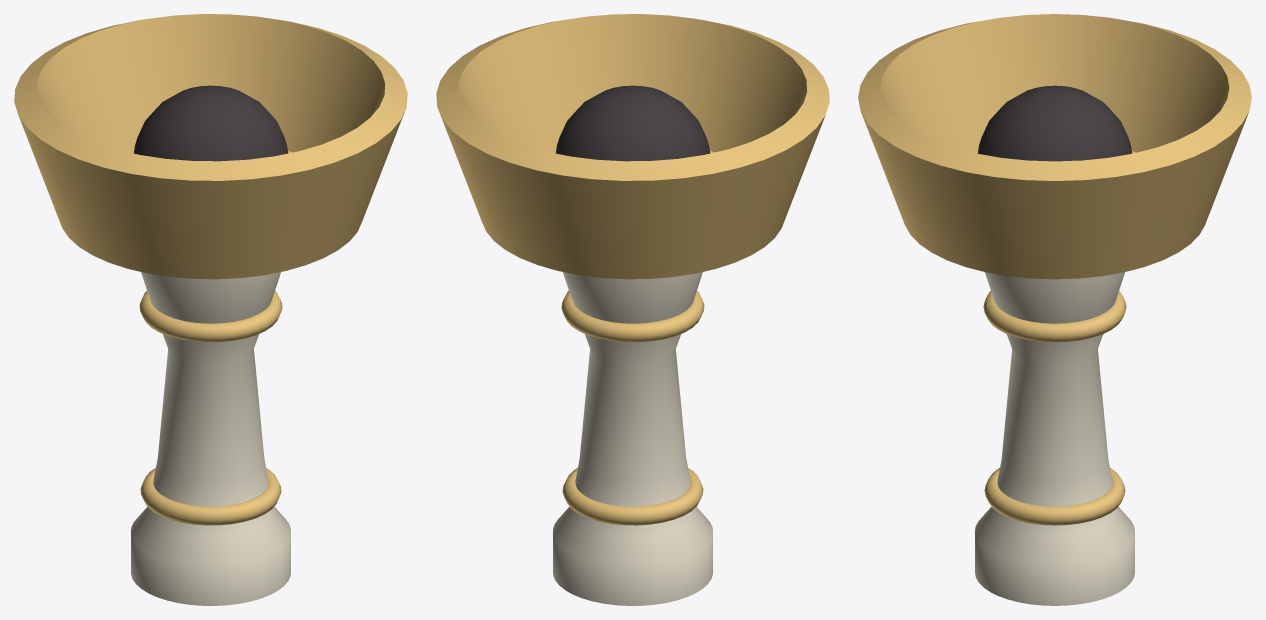
Rendered from royal-court-and-throne-palace-court-brazier-9975beb3__29420.glb.
3 views of the same model, side by side, from view 1: azimuth 30°, elevation 25°; view 2: azimuth 150°, elevation 25°; view 3: azimuth 270°, elevation 25° (orthographic).
Parts seen in each view (by area): view 1: court-brazier; view 2: court-brazier; view 3: court-brazier.
Part boxes in pixels (bbox=[...]): court-brazier: bbox=[14, 14, 407, 605]; court-brazier: bbox=[436, 14, 829, 605]; court-brazier: bbox=[858, 14, 1251, 605].
Size of the model in its own units: 0.7 by 0.95 by 0.7.
